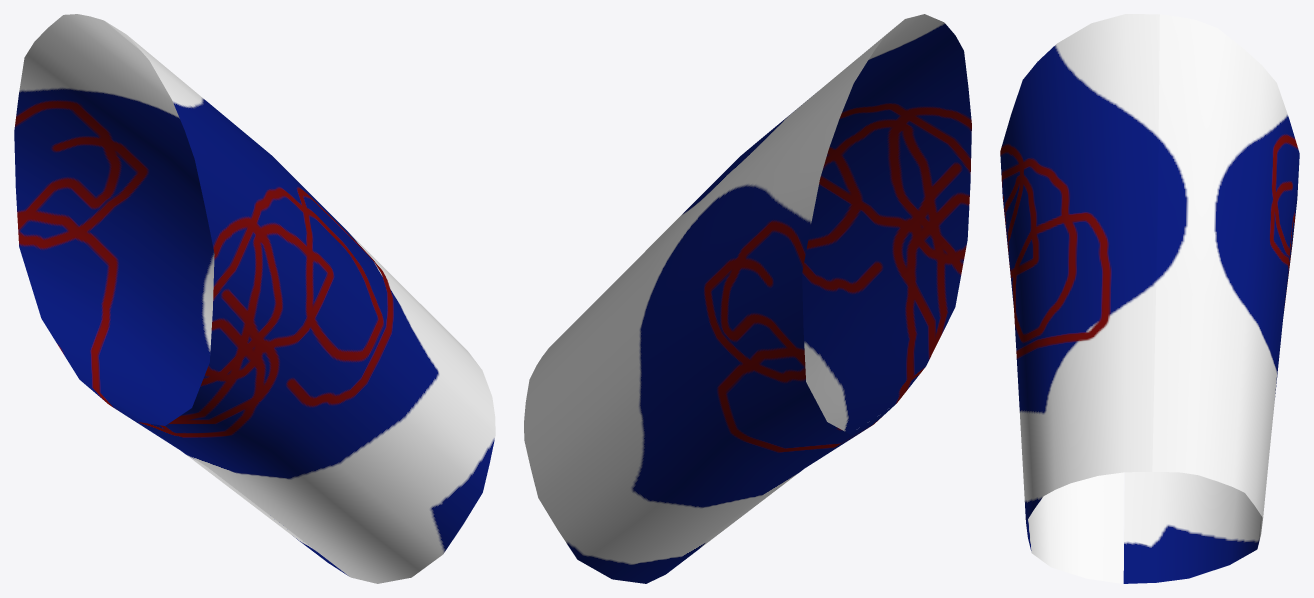
File: left.glb
The picture shows the model from 3 angles, left to right: view 1: azimuth 30°, elevation 25°; view 2: azimuth 150°, elevation 25°; view 3: azimuth 270°, elevation 25°; orthographic projection. The views are drawn at different scales.
Visible parts, largest first — view 1: leftsleeve; view 2: leftsleeve; view 3: leftsleeve.
Boxes of the visible parts, left/top/right/bottom form: leftsleeve: left=14, top=14, right=495, bottom=583; leftsleeve: left=524, top=14, right=971, bottom=583; leftsleeve: left=1000, top=14, right=1299, bottom=583.
Bounding box in the file's own units: 0.4772 × 0.777 × 0.4375.
1 material, 1 textured.
